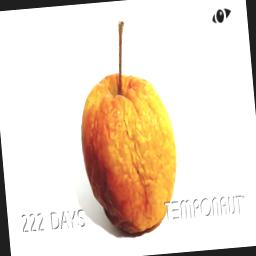Apple Overripe: (70, 0, 189, 238)
